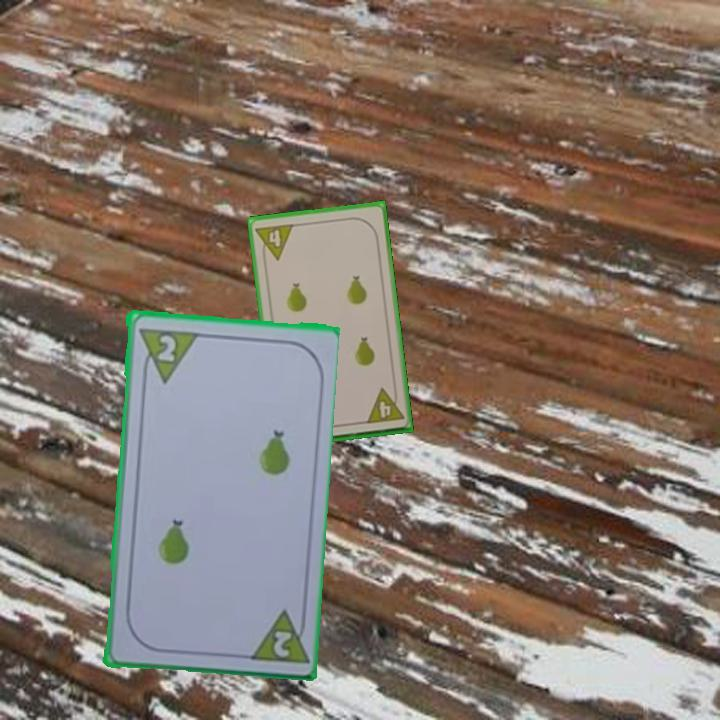2p: (244, 604, 309, 667), (153, 331, 179, 364)
4p: (252, 220, 296, 264), (362, 384, 406, 427)
